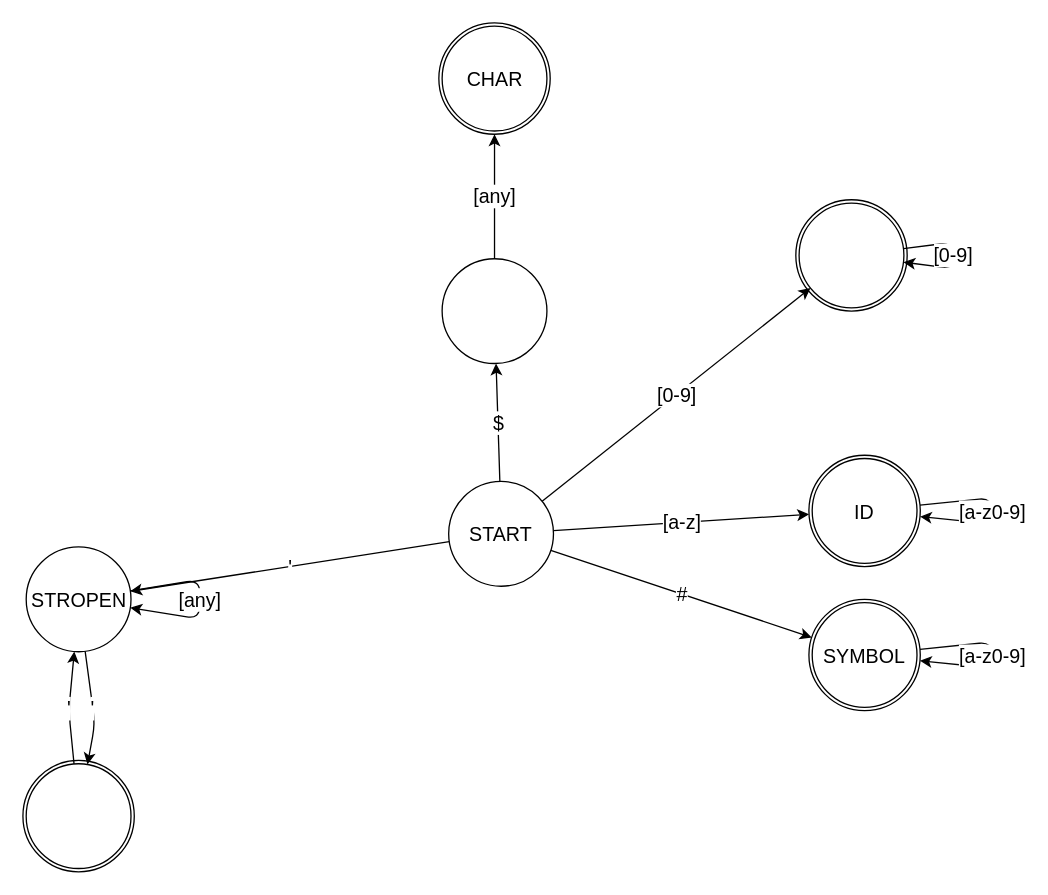
Some shapes in this 1048 by 895 pixel diagram are drawn without their labels. Each missing label, with the centre of its shape:
"DOLLAR" belongs at point 494,310.
"NUMBER" belongs at point 851,255.
"STRING" belongs at point 78,815.
